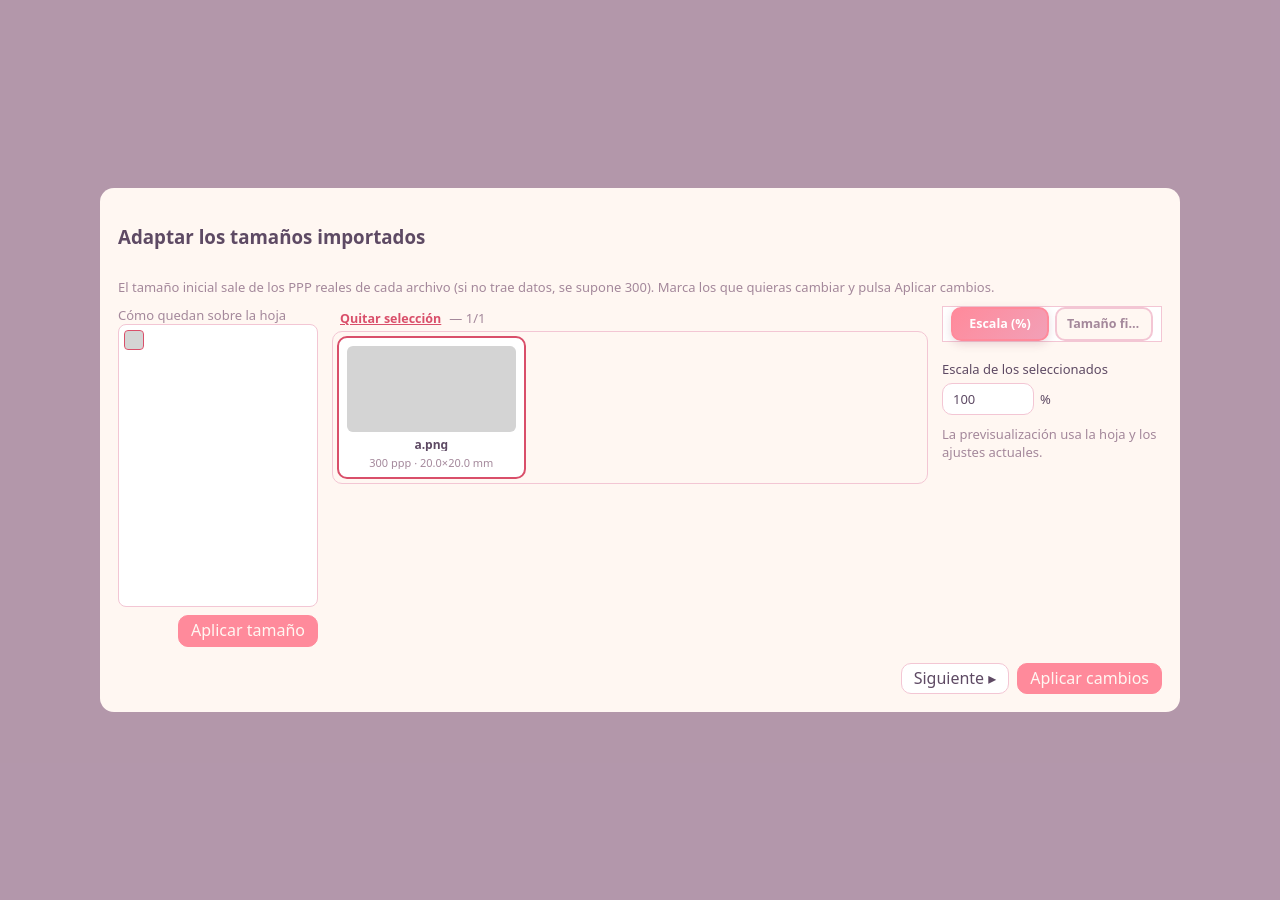
Test: Popup de importación múltiple › el modo círculo equivalente usa el área (aprox.)
The image size is (1280, 900).
Step 1. Click the button with test id "import-modo-tamano" → (1104, 324), box [1055,307,1153,341]
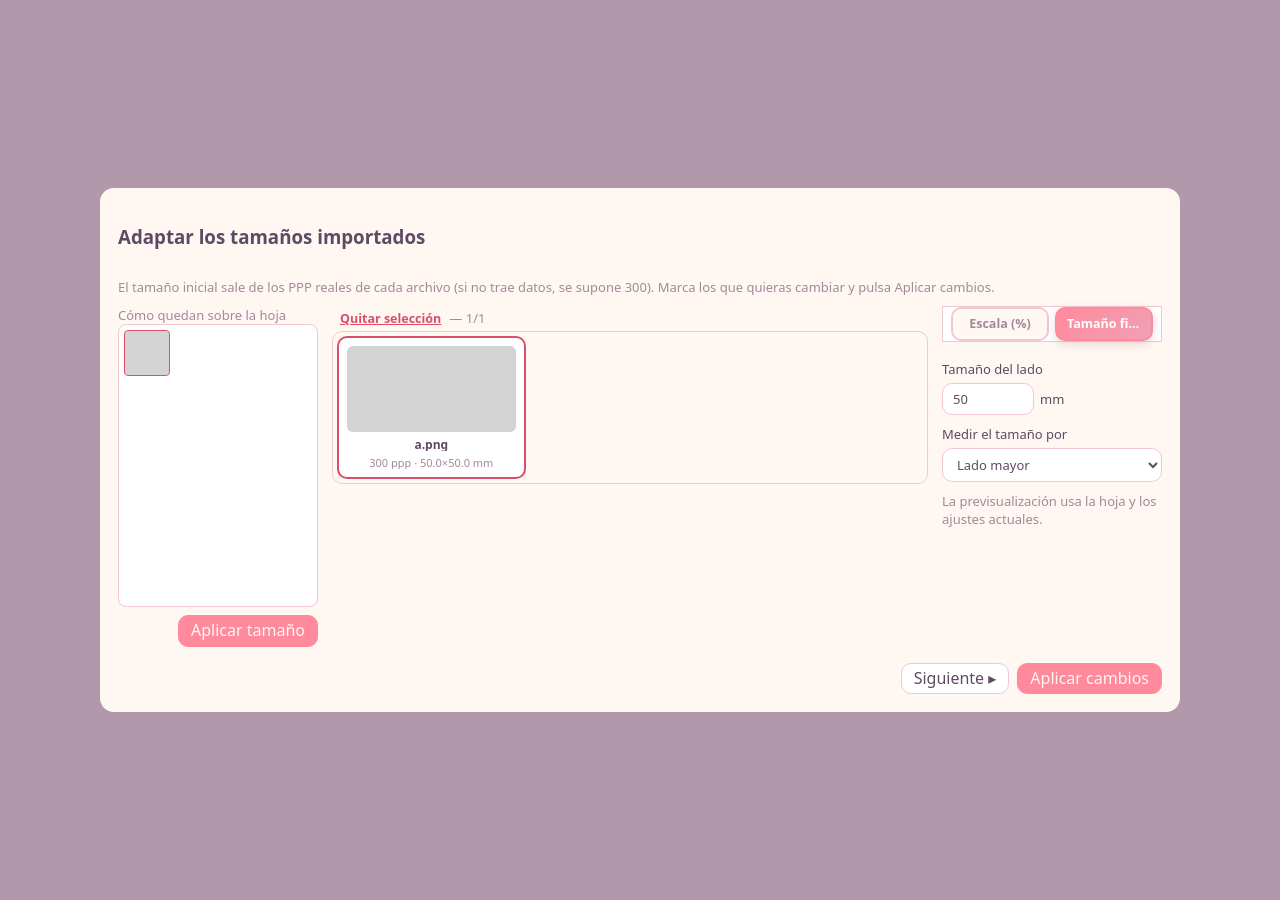
Step 2. Select "Círculo equivalente (aprox.)" in the dropdown with test id "import-modo" → (1052, 465), box [942,448,1162,482]
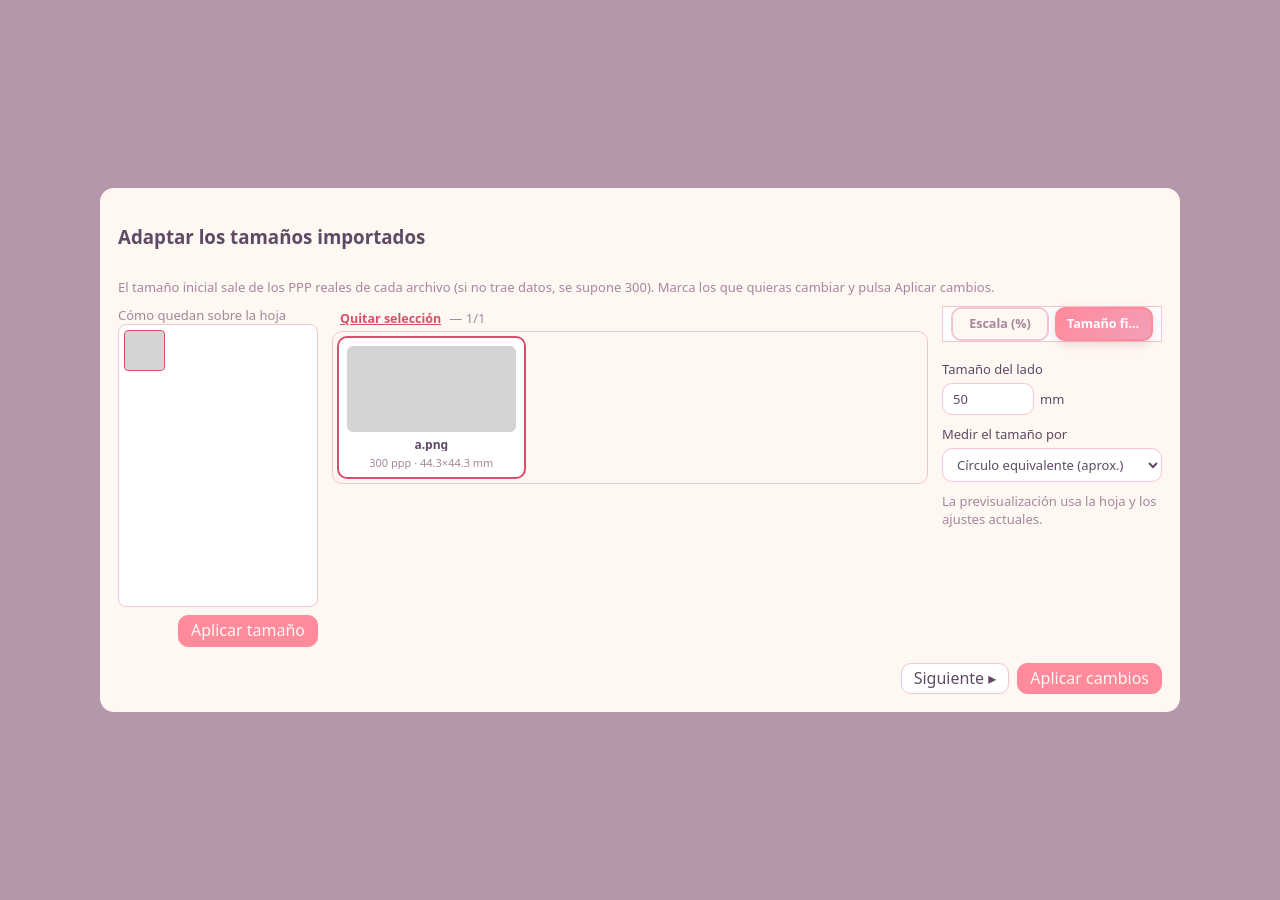
Step 3. Replace the text in the number field with test id "import-tamano" with "20" → (988, 399), box [942,383,1034,415]
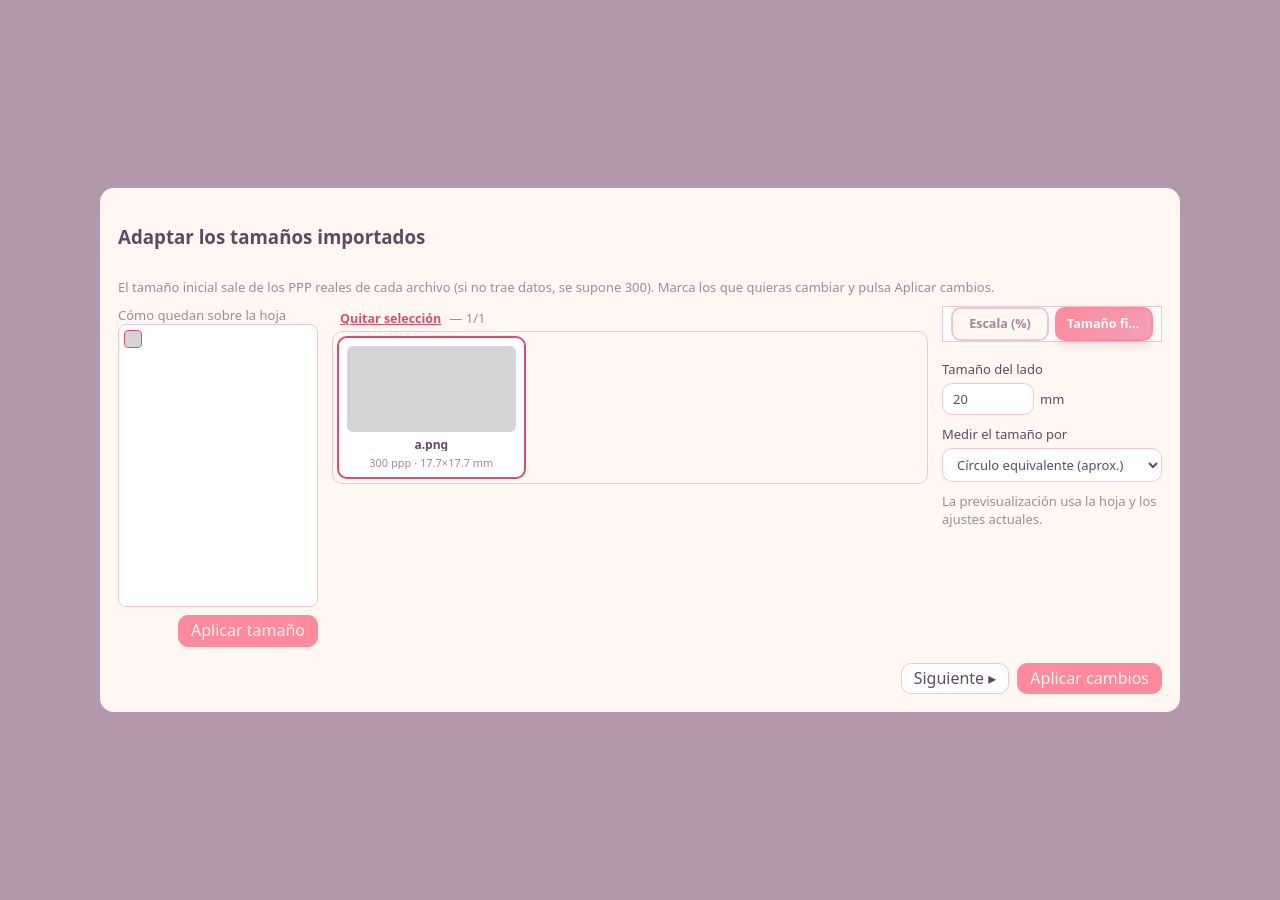
Step 4. Click the button with test id "import-conservar" → (1090, 678), box [1017,663,1162,694]
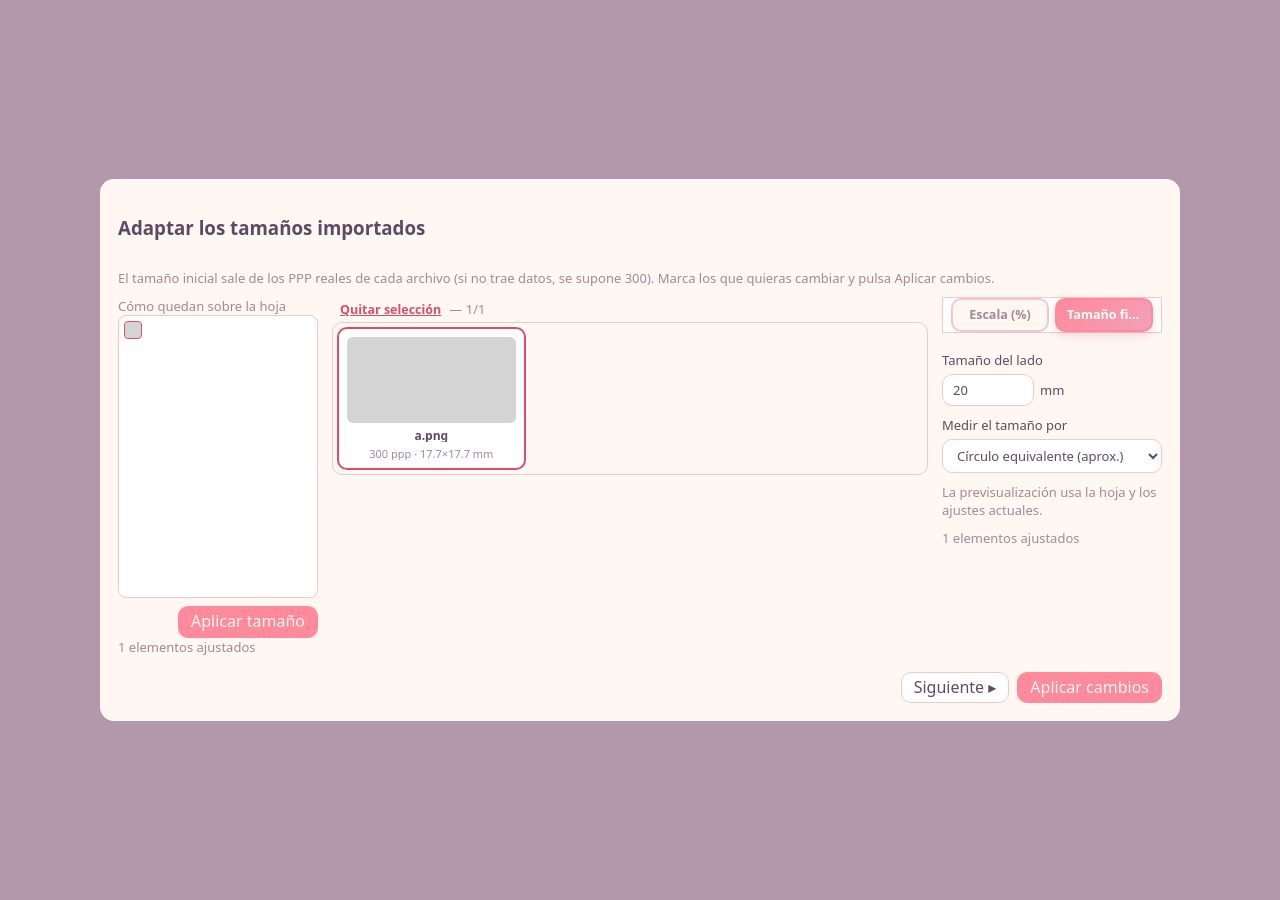
Expected: the text with test id "import-aviso" is shown, [942,529,1080,547]
